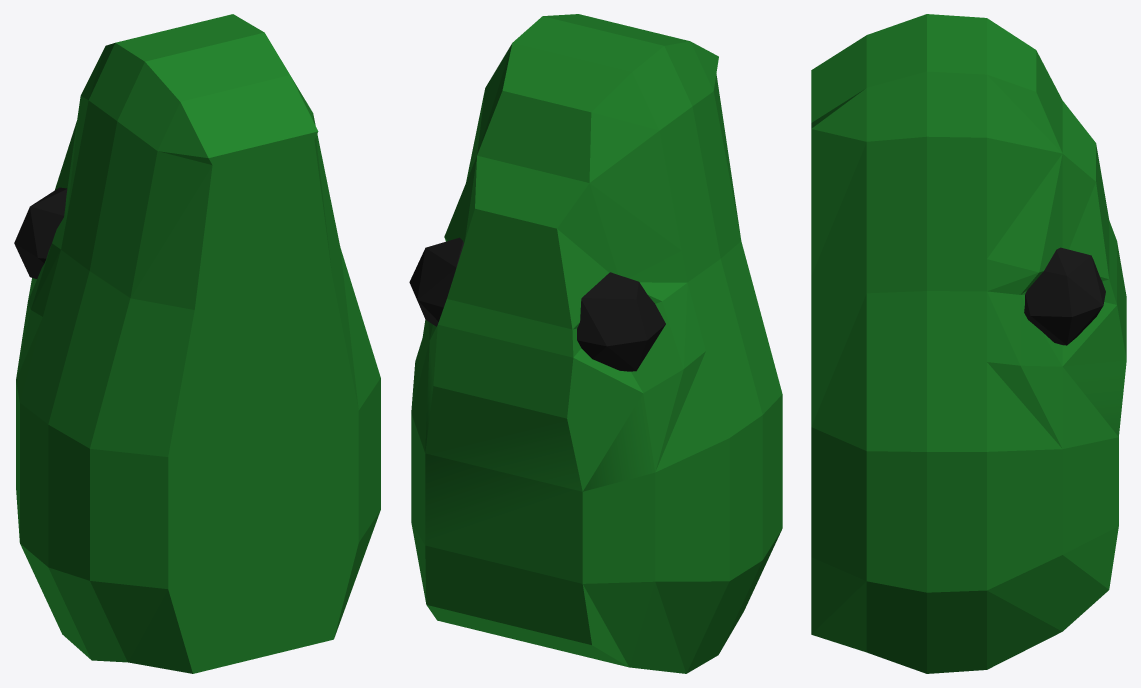
The model's file is snakehead.FBX.
3 renders of one model, left to right at view 1: azimuth 30°, elevation 25°; view 2: azimuth 150°, elevation 25°; view 3: azimuth 270°, elevation 25°, orthographic. The views are drawn at different scales.
Parts seen in each view (by area): view 1: SnakeHeadModel; view 2: SnakeHeadModel; view 3: SnakeHeadModel.
Boxes of the visible parts, box(x1,y1,x2,y2) form: SnakeHeadModel: box(14, 14, 380, 673); SnakeHeadModel: box(409, 14, 782, 673); SnakeHeadModel: box(811, 14, 1126, 673).
Size of the model in its own units: 59.16 by 106 by 52.43.
